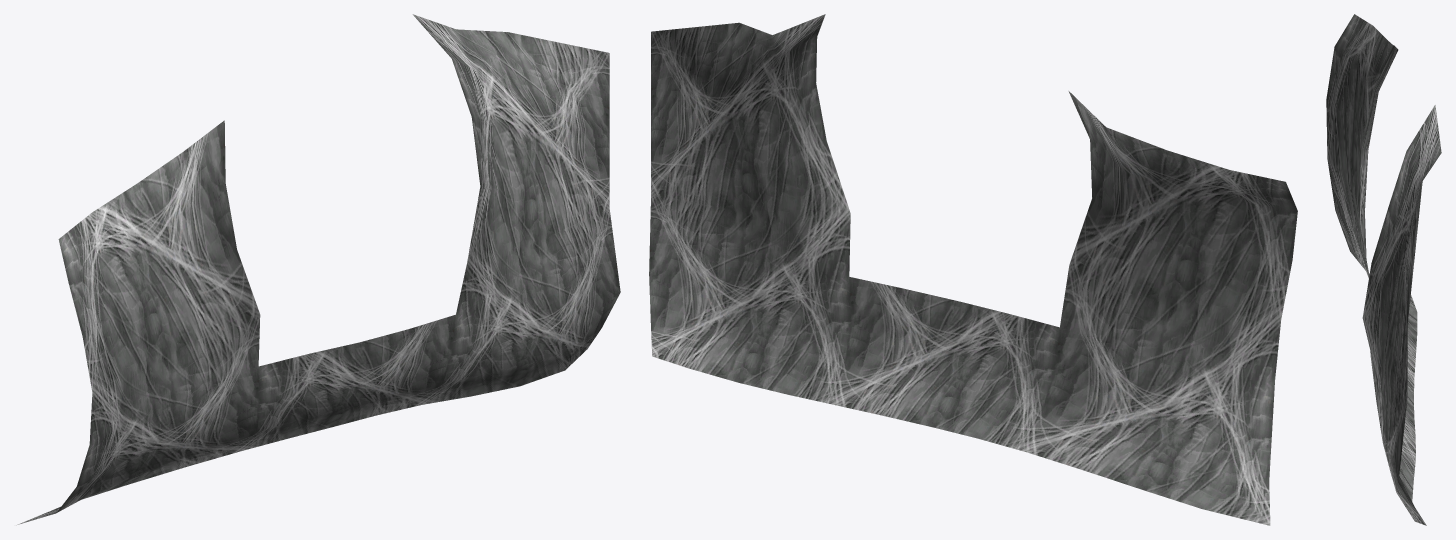
The model's file is SWORDLIGHT20_PS-AREA01_33.fbx.
3 renders of one model, left to right at view 1: azimuth 30°, elevation 25°; view 2: azimuth 150°, elevation 25°; view 3: azimuth 270°, elevation 25°, orthographic. The views are drawn at different scales.
Parts seen in each view (by area): view 1: SWORDLIGHT20_PS-AREA01_33; view 2: SWORDLIGHT20_PS-AREA01_33; view 3: SWORDLIGHT20_PS-AREA01_33.
Part boxes in pixels (bbox=[...]): SWORDLIGHT20_PS-AREA01_33: bbox=[16, 14, 620, 525]; SWORDLIGHT20_PS-AREA01_33: bbox=[649, 14, 1297, 525]; SWORDLIGHT20_PS-AREA01_33: bbox=[1326, 14, 1441, 525].
Size of the model in its own units: 172183 by 109736 by 30980.
Materials: 1 (1 with a texture image).
